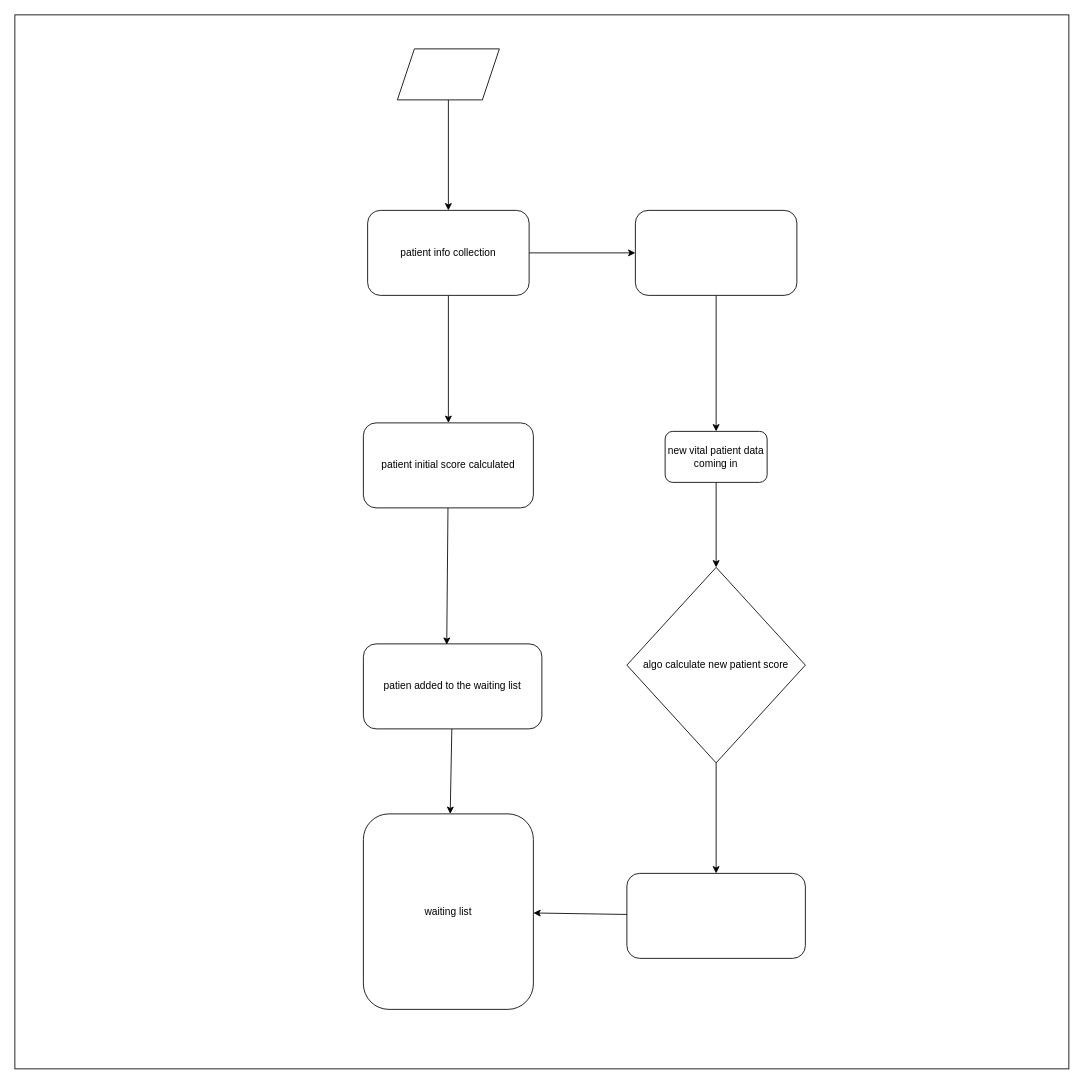
Image size: 1084x1084. Some labels were removed from this diagram. The shapes that lost their labels are listed below. From the top down, each one's centre as x and y in pixels, then its label:
At (448,74): "patient enter ER".
At (716,252): "patient assigns with hand-band".
At (715,915): "update patient ranking".
